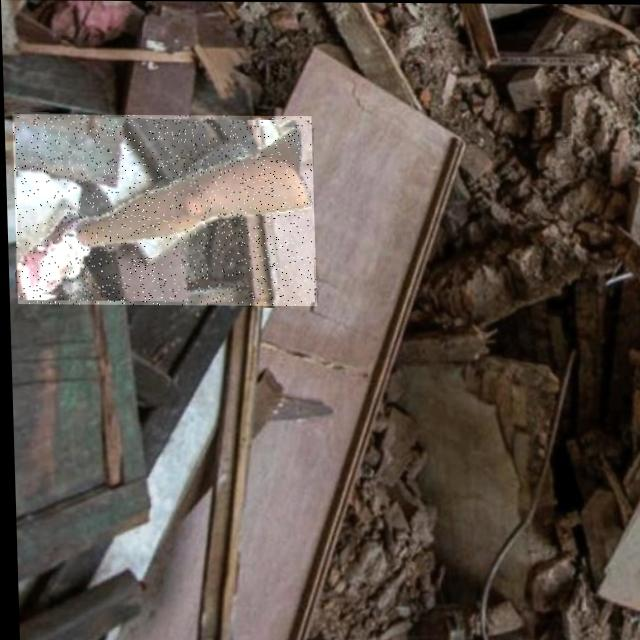Person in Rubble: (11, 114, 314, 306)
